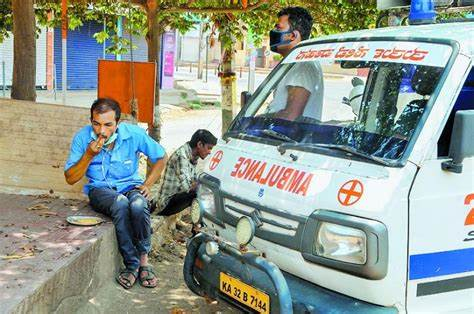ambulance: (169, 13, 474, 303)
